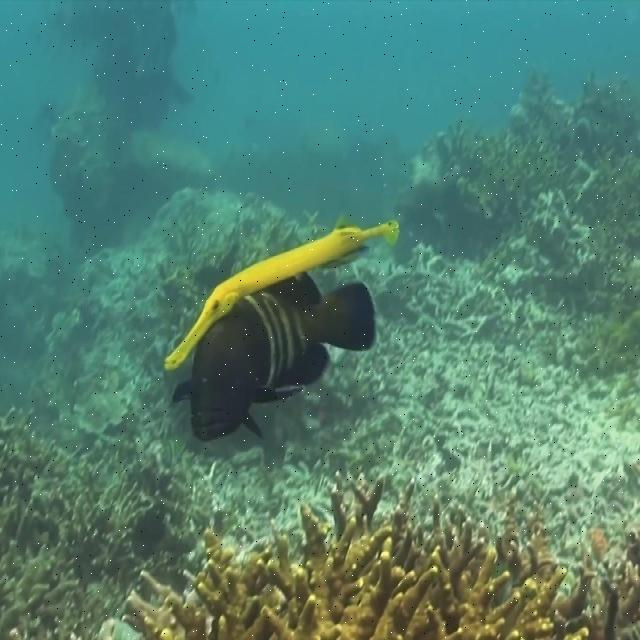fish: (162, 220, 398, 371), (174, 273, 375, 441)
reefs: (122, 468, 639, 639)
